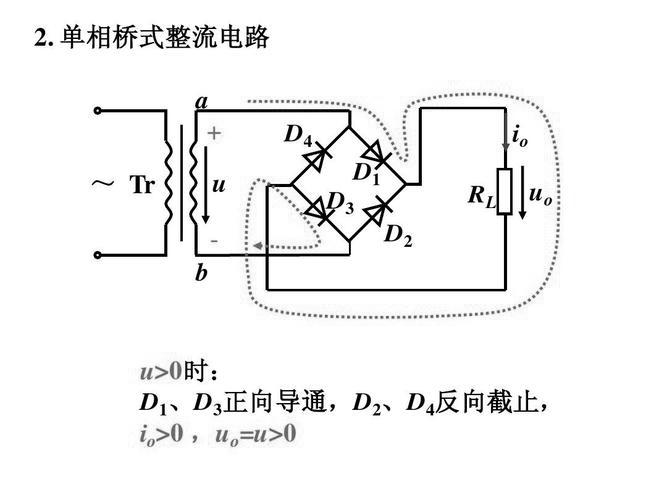bridge: (288, 124, 409, 247)
res1: (494, 164, 515, 219)
trans: (156, 101, 201, 264)
